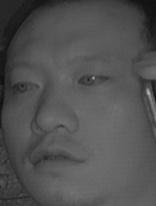eye: (77, 68, 111, 90), (9, 76, 39, 96)
mouth: (29, 141, 87, 175)
